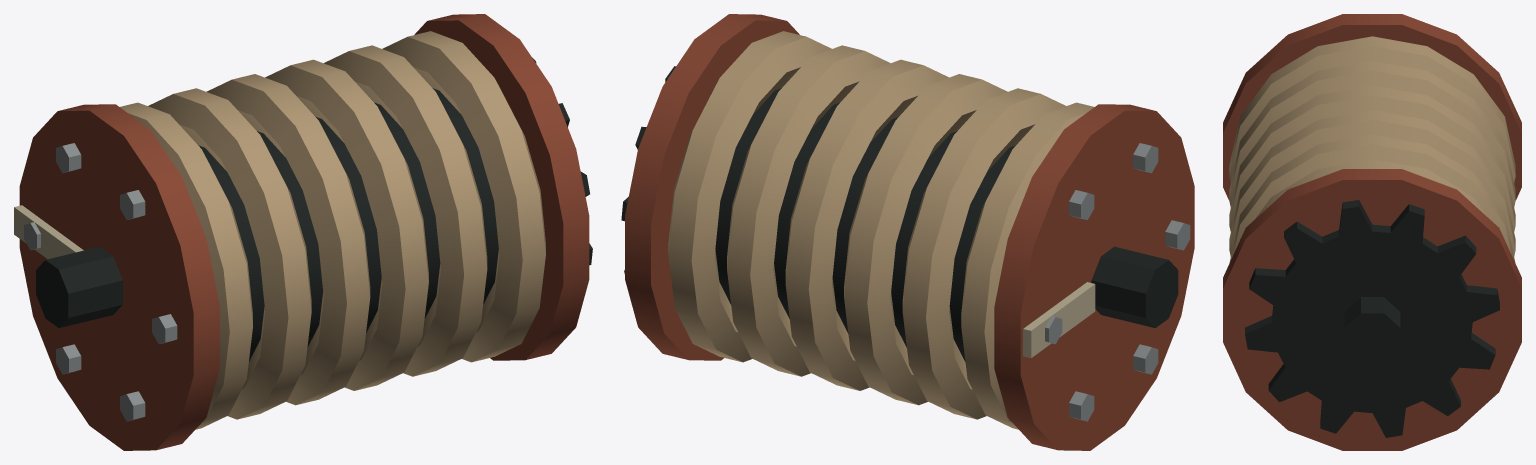
The model's file is grapple_tarn_drive.glb.
3 views of the same model, side by side, from view 1: azimuth 30°, elevation 25°; view 2: azimuth 150°, elevation 25°; view 3: azimuth 270°, elevation 25° (orthographic). The views are drawn at different scales.
Parts seen in each view (by area): view 1: Drive; view 2: Drive; view 3: Drive.
Part boxes in pixels (left/top/right/bottom): Drive: left=14, top=14, right=592, bottom=450; Drive: left=621, top=14, right=1194, bottom=450; Drive: left=1223, top=14, right=1521, bottom=450.
Size of the model in its own units: 0.5 by 0.2982 by 0.2982.
